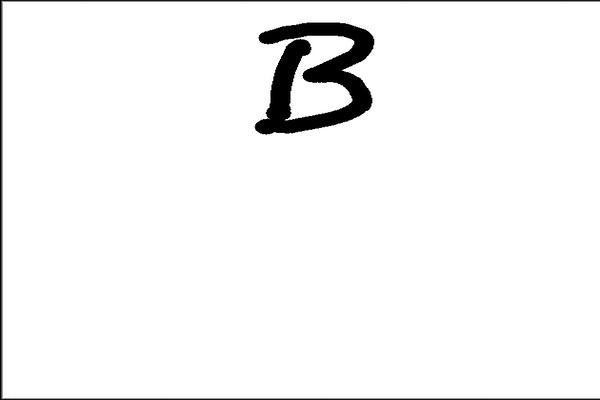B: (243, 14, 385, 145)
